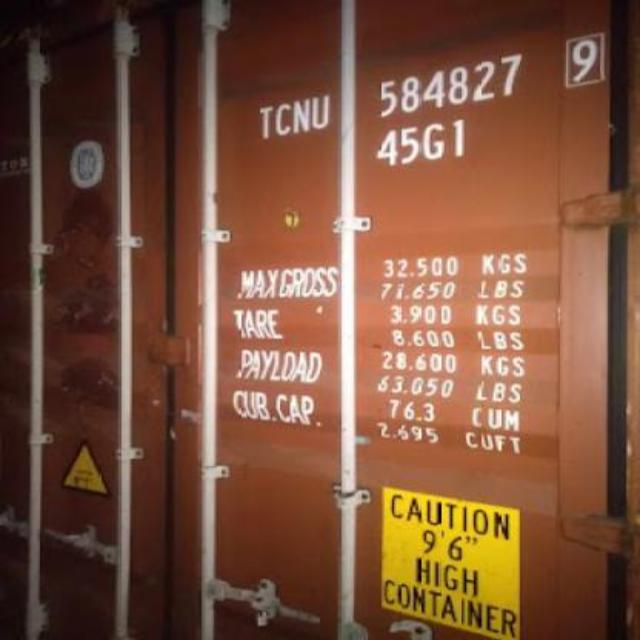2: (474, 59, 498, 105)
4: (420, 68, 446, 108)
5: (376, 79, 396, 117)
7: (496, 51, 524, 95)
8: (448, 64, 469, 104), (400, 73, 418, 114)
9: (570, 39, 598, 83)
C: (276, 102, 292, 136)
N: (292, 97, 310, 135)
T: (257, 102, 273, 140)
U: (310, 94, 332, 130)
